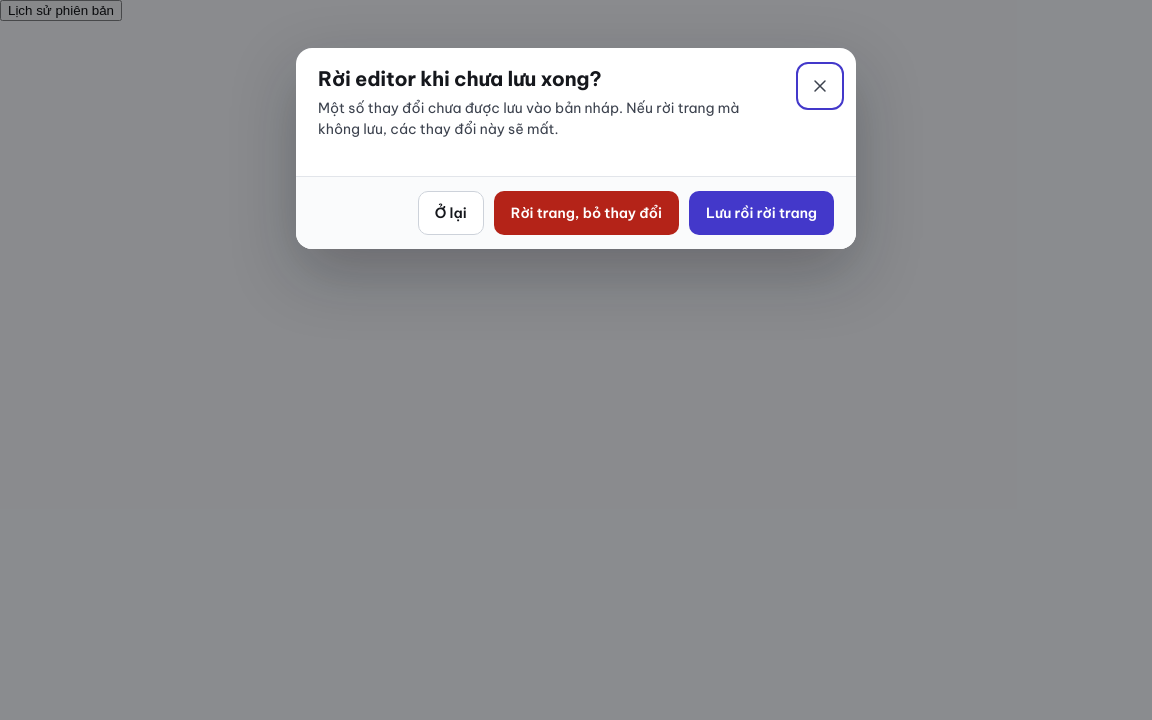
Test case: useLeaveGuard with the browser Back button › stays on "Ở lại"
This screenshot has width=1152, height=720.
Click the button "Ở lại".
click(451, 213)  # box [418,191,484,235]
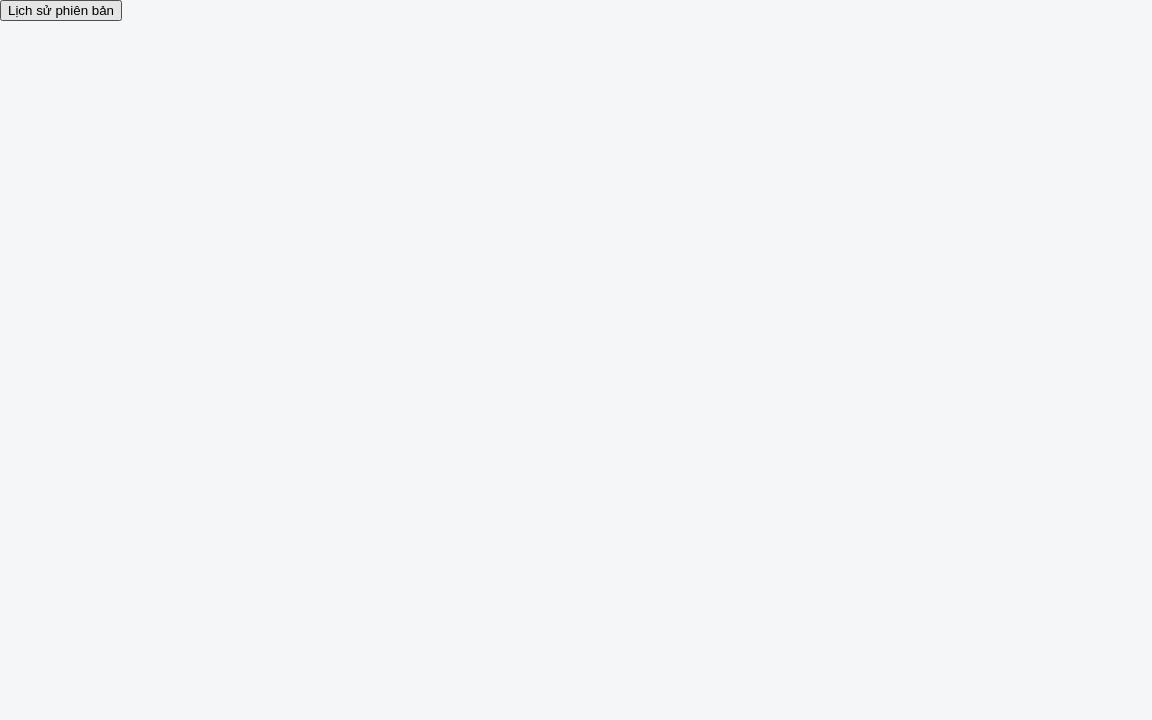
Check: the dialog is gone
